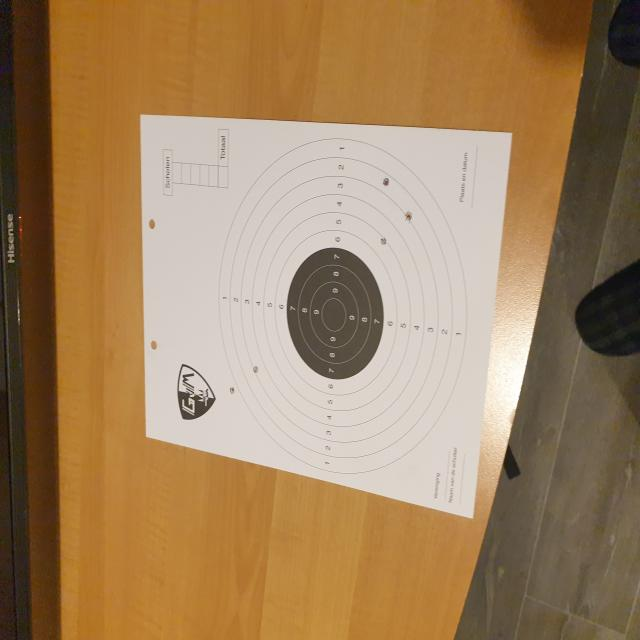0: (229, 386, 235, 394)
2: (381, 175, 390, 187)
3: (404, 210, 413, 224), (253, 365, 259, 374)
5: (380, 235, 388, 247)
Target: (218, 138, 467, 476)
black_contour: (286, 247, 383, 380)
